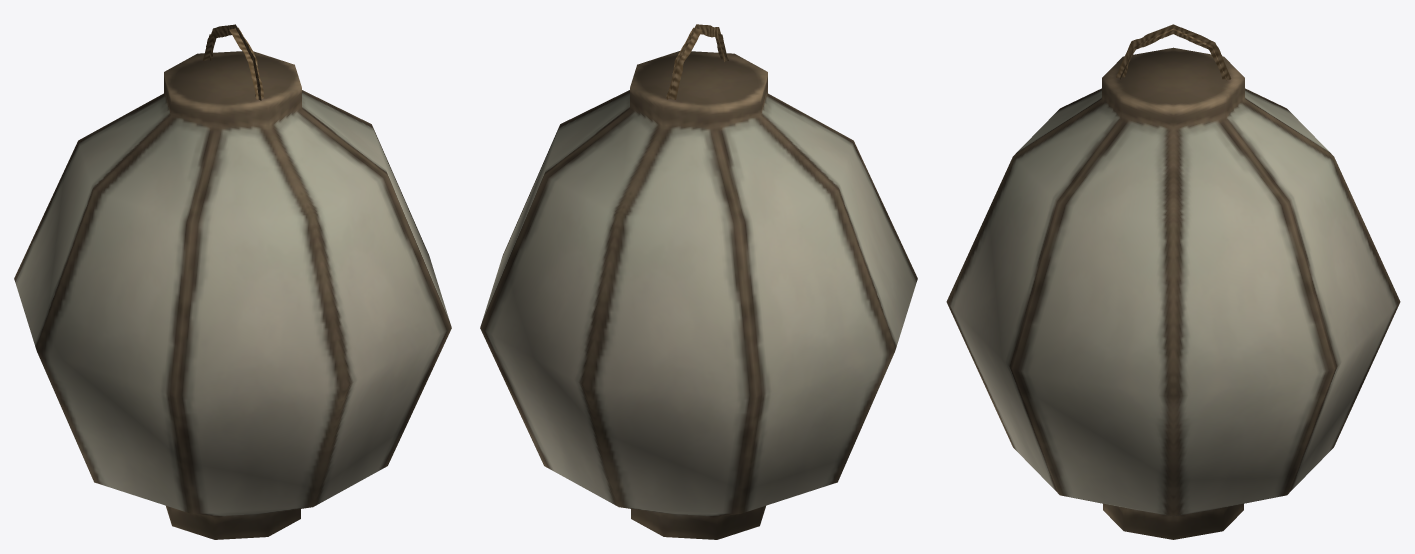
File: Streetlight.fbx
3 views of the same model, side by side, from view 1: azimuth 30°, elevation 25°; view 2: azimuth 150°, elevation 25°; view 3: azimuth 270°, elevation 25° (orthographic).
Visible parts, largest first — view 1: Streetlight; view 2: Streetlight; view 3: Streetlight.
Boxes of the visible parts, x1,y1,x2,y2 form: Streetlight: (14,24,451,539); Streetlight: (480,24,917,539); Streetlight: (946,24,1400,539).
Size of the model in its own units: 57.99 by 70.11 by 57.99.
